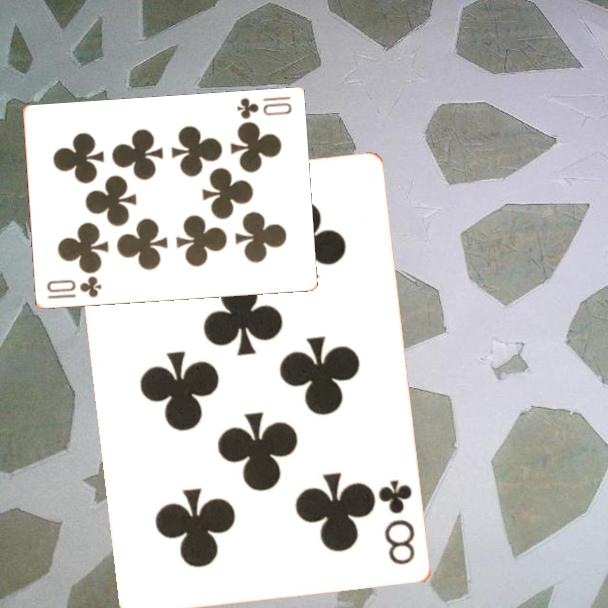c08: (375, 476, 419, 568)
c10: (43, 273, 104, 302), (233, 93, 294, 122)
